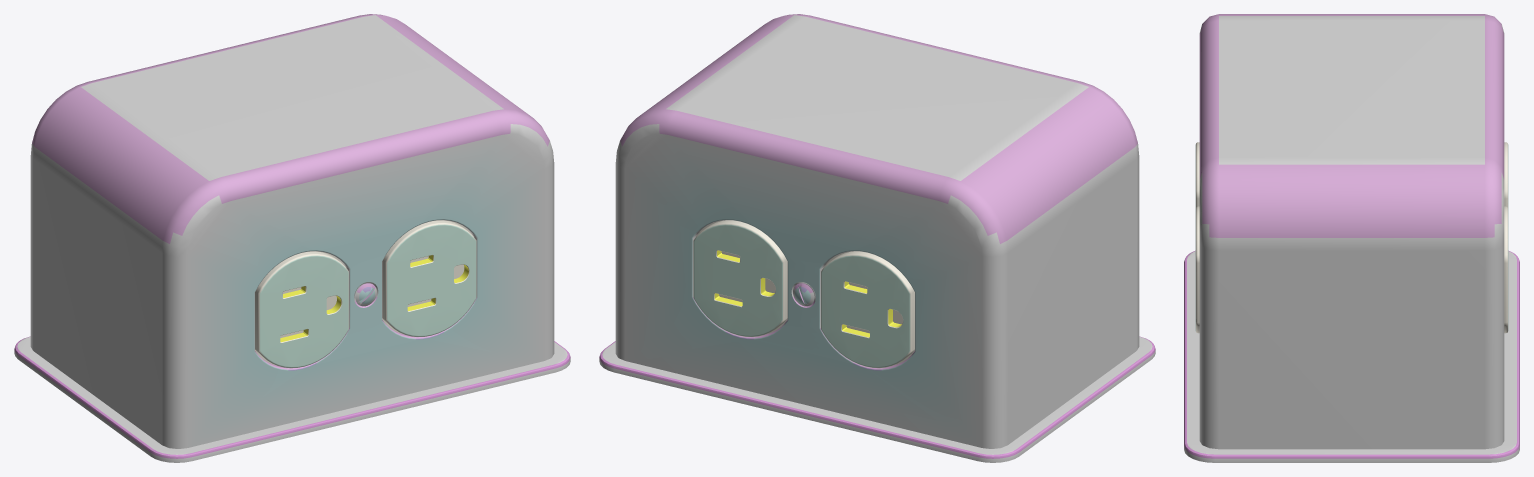
File: Kit_FloorBoxTombstone2.fbx
3 renders of one model, left to right at view 1: azimuth 30°, elevation 25°; view 2: azimuth 150°, elevation 25°; view 3: azimuth 270°, elevation 25°, orthographic. The views are drawn at different scales.
Visible parts, largest first — view 1: Kit_FloorBoxTombstone2_LOD0; view 2: Kit_FloorBoxTombstone2_LOD0; view 3: Kit_FloorBoxTombstone2_LOD0.
Part boxes in pixels (left/top/right/bottom): Kit_FloorBoxTombstone2_LOD0: left=14, top=14, right=570, bottom=462; Kit_FloorBoxTombstone2_LOD0: left=599, top=14, right=1155, bottom=462; Kit_FloorBoxTombstone2_LOD0: left=1184, top=14, right=1519, bottom=462.
Size of what is drawn, in the model's own units: 0.127 by 0.076 by 0.086.
